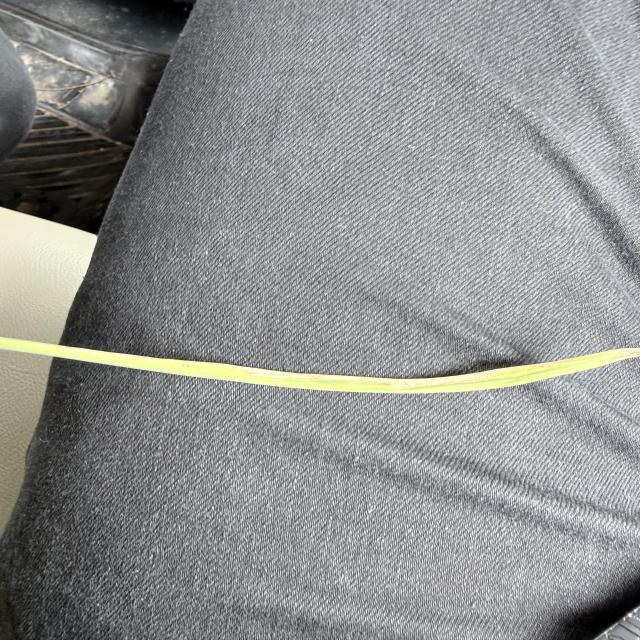Chay bia la: (233, 362, 497, 387)
